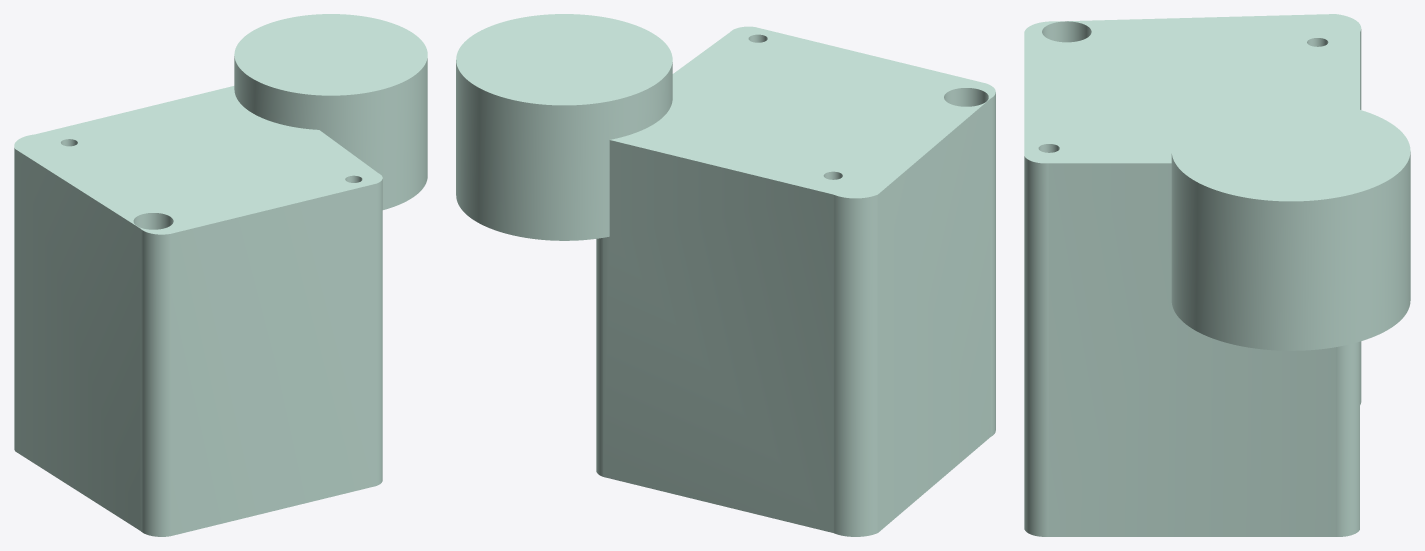
3 views of the same model, side by side, from view 1: azimuth 30°, elevation 25°; view 2: azimuth 150°, elevation 25°; view 3: azimuth 270°, elevation 25° (orthographic). The views are drawn at different scales.
Visible parts, largest first — view 1: Renderer Node; view 2: Renderer Node; view 3: Renderer Node.
Part boxes in pixels (x1,y1,x2,y2): Renderer Node: (14, 14, 427, 536); Renderer Node: (456, 14, 995, 536); Renderer Node: (1024, 14, 1410, 536).
Size of the model in its own units: 0.7225 by 0.6094 by 0.5123.
